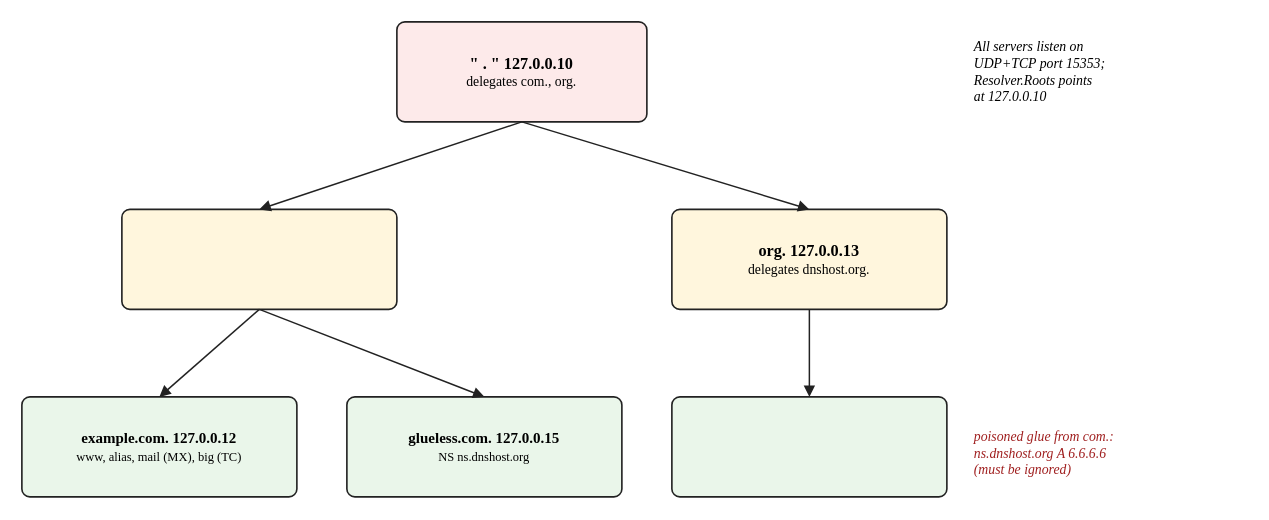
Some shapes in this 1269 by 520 pixel diagram are drawn without their labels. The shapes that lost their labels are listed below. From the top down, each one's box as (x1, y1, x2, y2) in pixels, then its label:
(120, 208, 397, 310): com. 127.0.0.11 example.com (glue), glueless.com, trap.com → net. (bad)
(670, 396, 947, 497): dnshost.org. 127.0.0.14 ns.dnshost.org A 127.0.0.15
